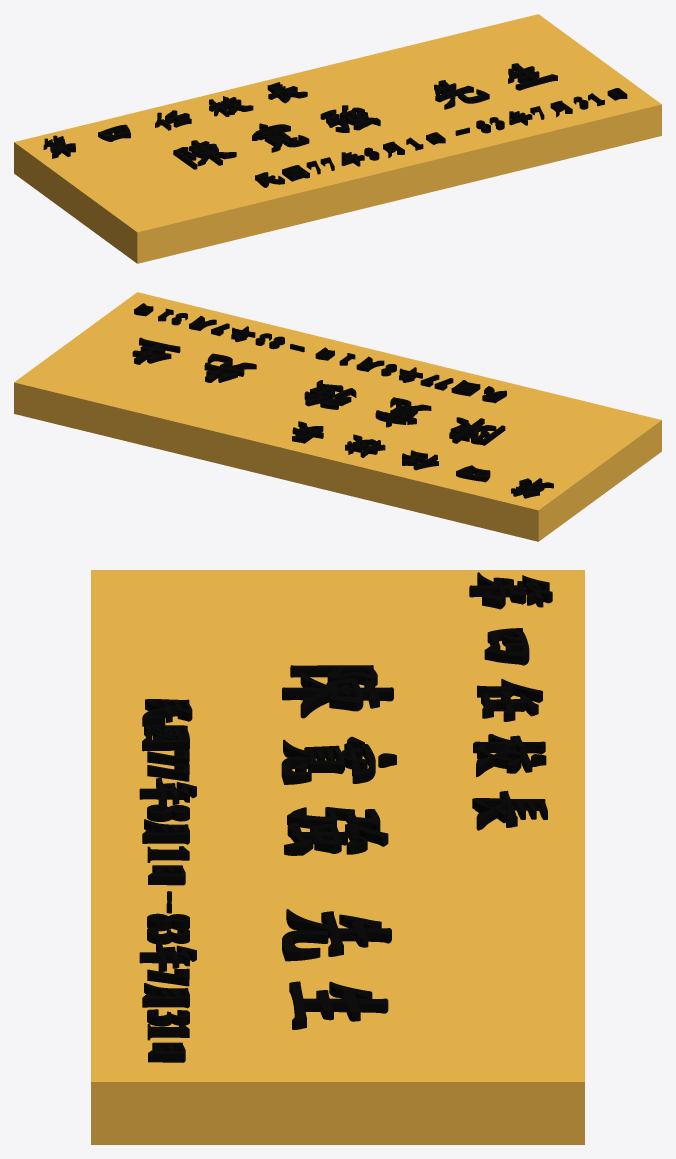
File: 第四任.FBX
The picture shows the model from 3 angles, top to bottom: view 1: azimuth 30°, elevation 25°; view 2: azimuth 150°, elevation 25°; view 3: azimuth 270°, elevation 25°; orthographic projection. The views are drawn at different scales.
Parts seen in each view (by area): view 1: Box002, Text011, Text012, Text010; view 2: Box002, Text011, Text012, Text010; view 3: Box002, Text011, Text012, Text010.
Part boxes in pixels (bbox=[...]): Box002: bbox=[14, 14, 661, 263]; Text011: bbox=[173, 63, 557, 169]; Text012: bbox=[255, 88, 627, 187]; Text010: bbox=[43, 82, 307, 158]; Box002: bbox=[14, 292, 661, 541]; Text011: bbox=[132, 337, 505, 445]; Text012: bbox=[134, 303, 506, 403]; Text010: bbox=[292, 421, 553, 498]; Box002: bbox=[91, 570, 584, 1144]; Text011: bbox=[281, 665, 396, 1029]; Text012: bbox=[139, 699, 196, 1062]; Text010: bbox=[469, 572, 552, 830].
Size of the model in its own units: 469 by 30.62 by 191.
